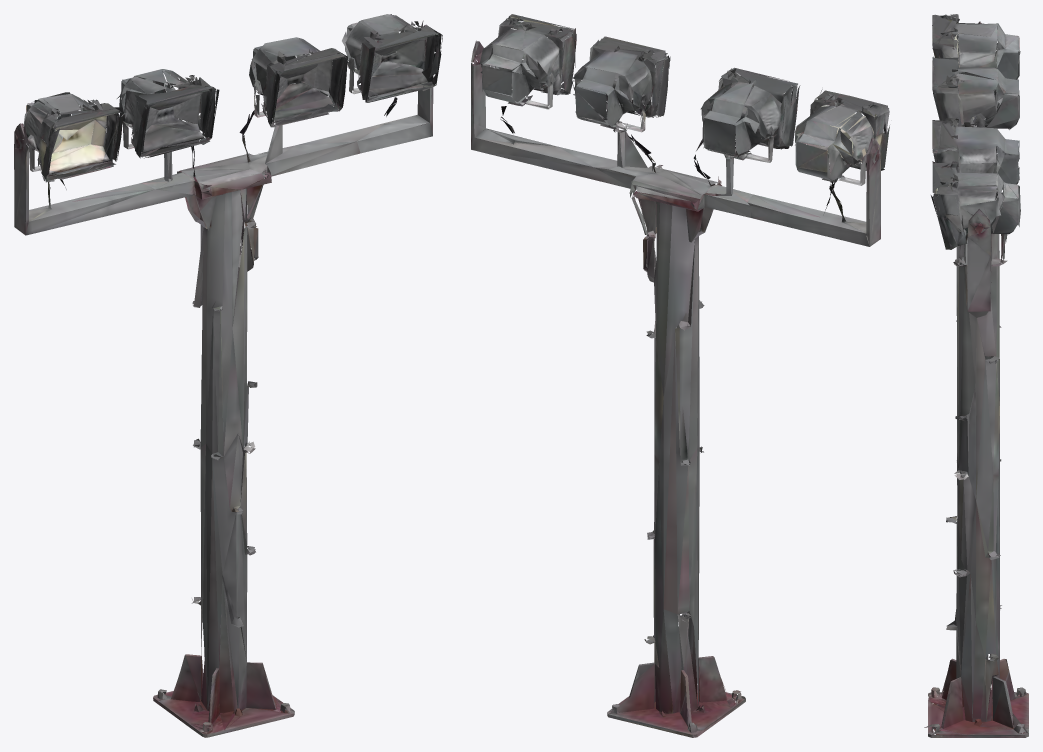
The model's file is lamp_flood.glb.
The picture shows the model from 3 angles, left to right: view 1: azimuth 30°, elevation 25°; view 2: azimuth 150°, elevation 25°; view 3: azimuth 270°, elevation 25°; orthographic projection. The views are drawn at different scales.
Visible parts, largest first — view 1: Mesh_0; view 2: Mesh_0; view 3: Mesh_0.
Part boxes in pixels (x1,y1,x2,y2): Mesh_0: (14,14,442,737); Mesh_0: (471,14,889,737); Mesh_0: (924,14,1028,737).
Size of the model in its own units: 1.26 by 1.91 by 0.2945.
1 material, 1 textured.
